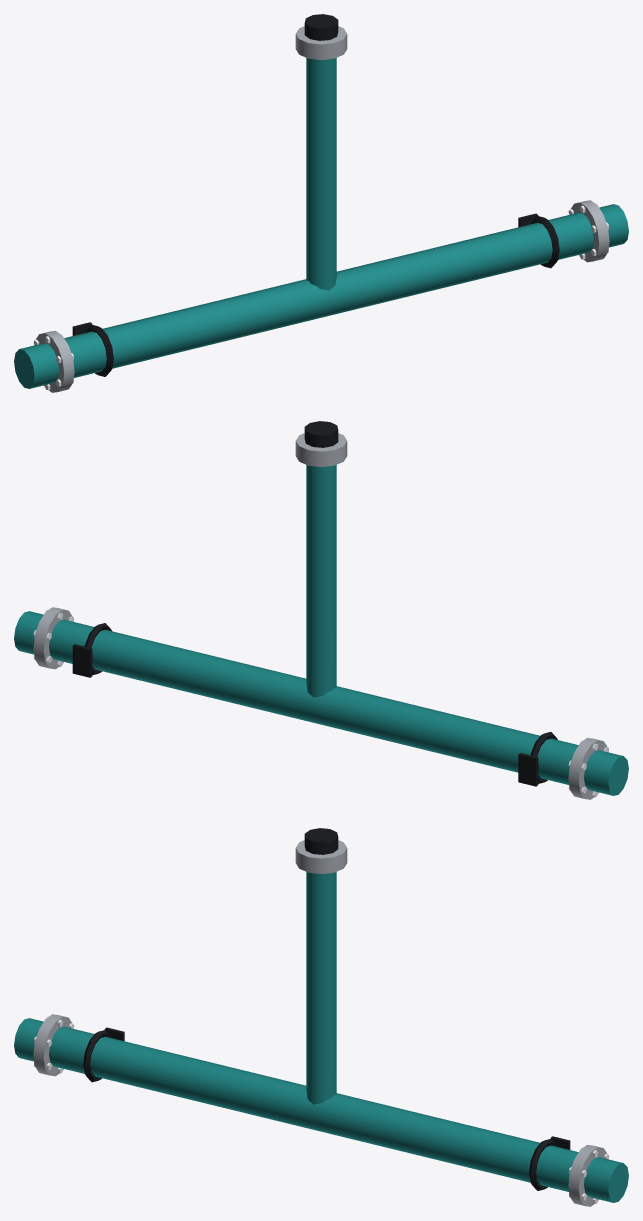
Rendered from pipe_tee_branch.glb.
3 renders of one model, top to bottom at view 1: azimuth 30°, elevation 25°; view 2: azimuth 150°, elevation 25°; view 3: azimuth 330°, elevation 25°, orthographic.
Parts seen in each view (by area): view 1: pipe_tee_branch; view 2: pipe_tee_branch; view 3: pipe_tee_branch.
Boxes of the visible parts, x1=… form: pipe_tee_branch: x1=14, y1=14, x2=628, y2=392; pipe_tee_branch: x1=14, y1=421, x2=628, y2=799; pipe_tee_branch: x1=14, y1=828, x2=628, y2=1206.
Size of the model in its own units: 2 by 0.9727 by 0.19.
